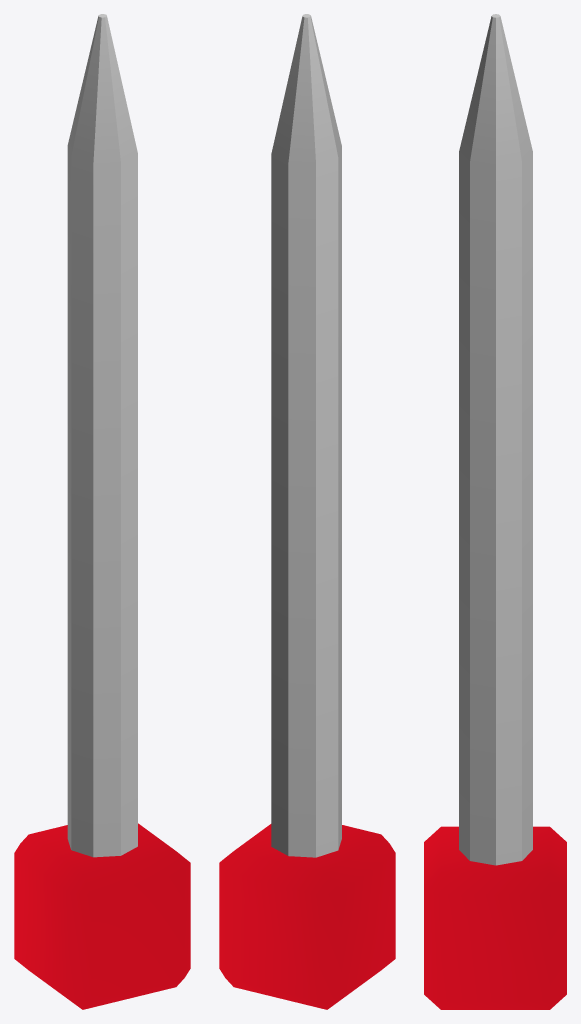
The model's file is Needle.fbx.
3 renders of one model, left to right at view 1: azimuth 30°, elevation 25°; view 2: azimuth 150°, elevation 25°; view 3: azimuth 270°, elevation 25°, orthographic.
Parts seen in each view (by area): view 1: Cylinder; view 2: Cylinder; view 3: Cylinder.
Boxes of the visible parts, bbox=[...] form: Cylinder: bbox=[14, 14, 190, 1009]; Cylinder: bbox=[219, 14, 395, 1009]; Cylinder: bbox=[424, 14, 566, 1009].
Bounding box in the file's own units: 77.44 × 582 × 77.44.
